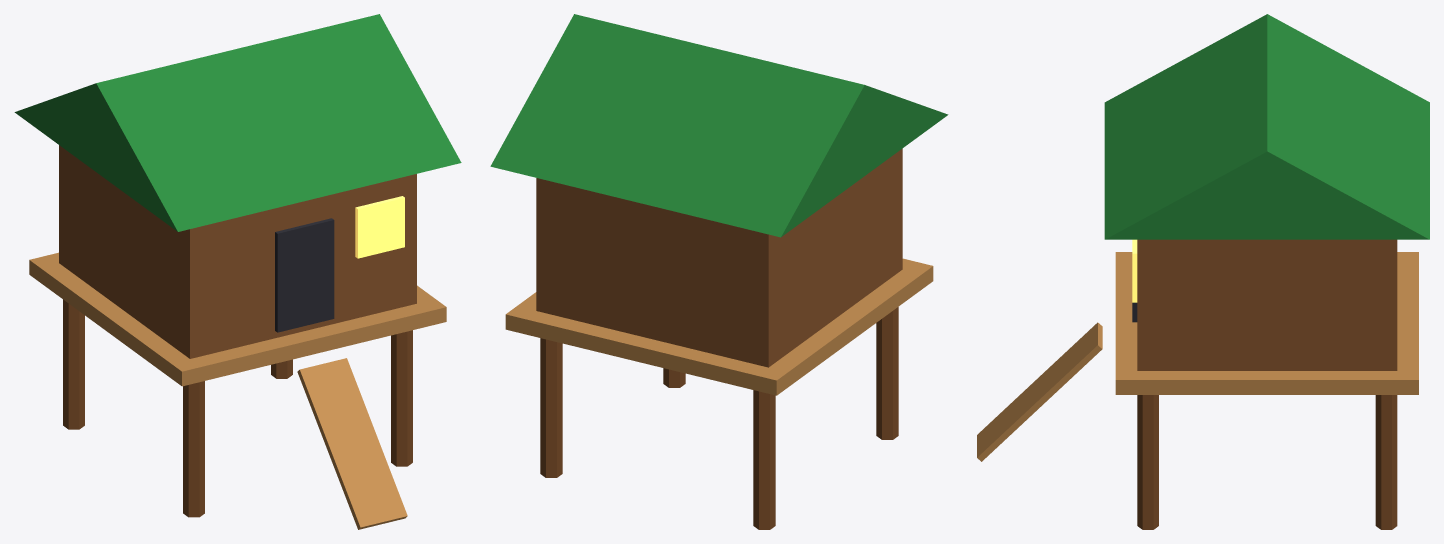
The model's file is stilt_hut.glb.
The picture shows the model from 3 angles, left to right: view 1: azimuth 30°, elevation 25°; view 2: azimuth 150°, elevation 25°; view 3: azimuth 270°, elevation 25°; orthographic projection. The views are drawn at different scales.
Visible parts, largest first — view 1: stilt_hut; view 2: stilt_hut; view 3: stilt_hut.
Part boxes in pixels (x1,y1,x2,y2): stilt_hut: (14, 14, 461, 529); stilt_hut: (490, 14, 948, 529); stilt_hut: (977, 14, 1429, 529).
Size of the model in its own units: 3 by 4 by 4.18.
